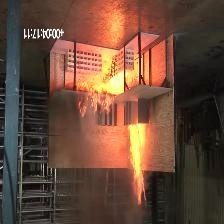fire: (116, 110, 158, 214), (75, 45, 140, 112)
